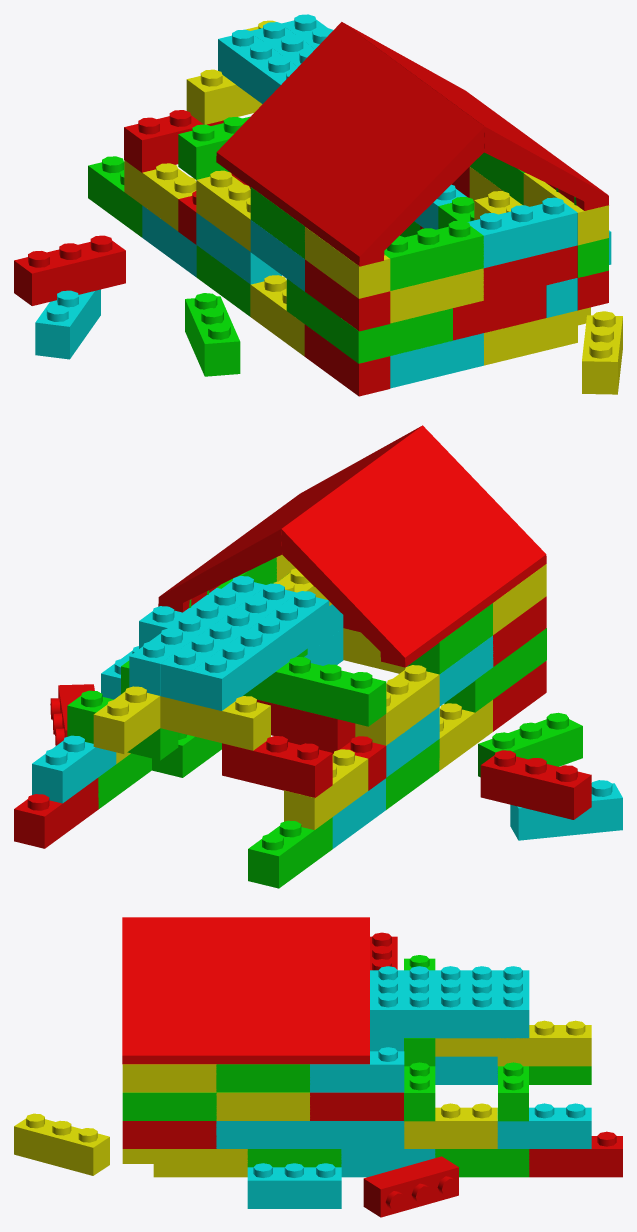
The model's file is Enviro_lego_001.fbx.
3 renders of one model, top to bottom at view 1: azimuth 30°, elevation 25°; view 2: azimuth 150°, elevation 25°; view 3: azimuth 270°, elevation 25°, orthographic. The views are drawn at different scales.
Visible parts, largest first — view 1: polySurface270; view 2: polySurface270; view 3: polySurface270.
Boxes of the visible parts, box(x1,y1,x2,y2) form: polySurface270: box(14, 14, 622, 396); polySurface270: box(14, 425, 622, 888); polySurface270: box(14, 917, 622, 1217).
Size of the model in its own units: 141 by 58.97 by 157.
